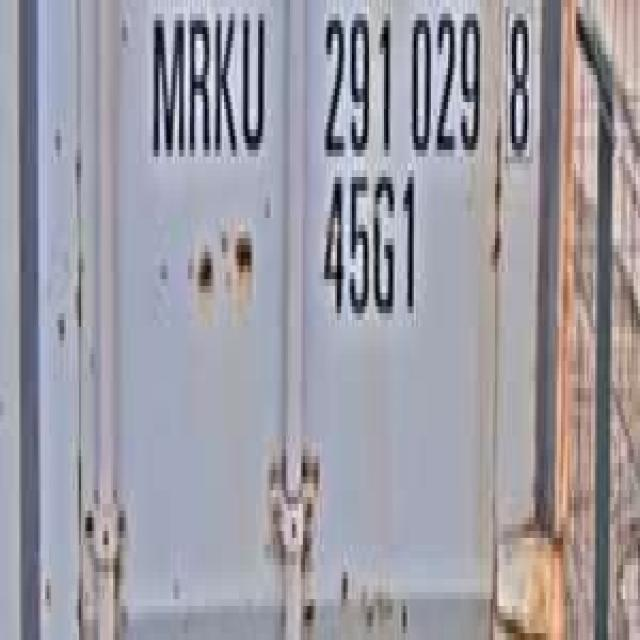dv: (499, 0, 535, 163)
owner: (145, 0, 269, 170)
serial: (318, 0, 486, 170)
size: (316, 157, 420, 340)
